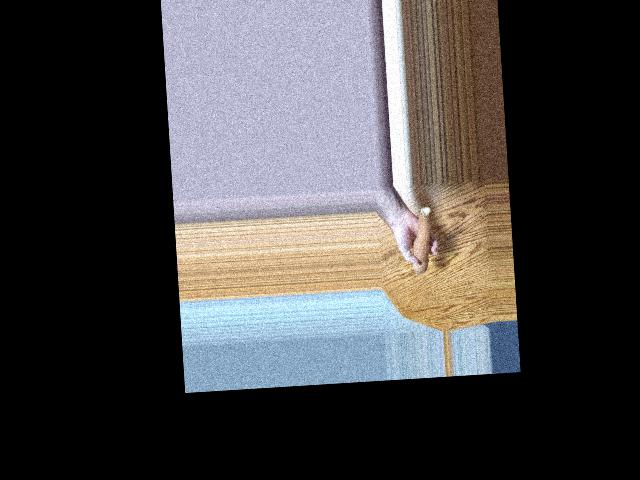sweet_potato: (409, 208, 432, 273)
